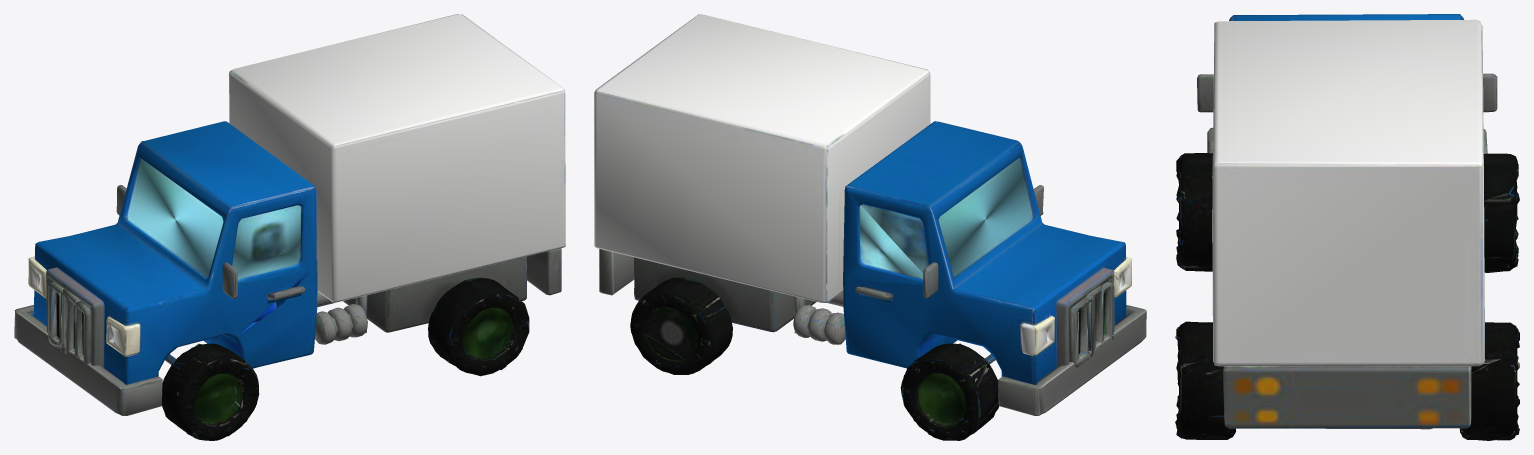
File: truck-blue.glb
3 renders of one model, left to right at view 1: azimuth 30°, elevation 25°; view 2: azimuth 150°, elevation 25°; view 3: azimuth 270°, elevation 25°, orthographic. The views are drawn at different scales.
Bounding box in the file's own units: 1 × 0.5488 × 0.5234.
Materials: 1 (1 with a texture image).
